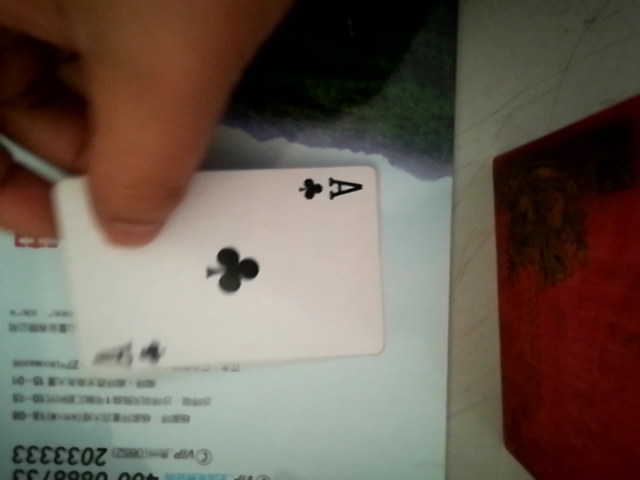mh a: (58, 157, 393, 376)
